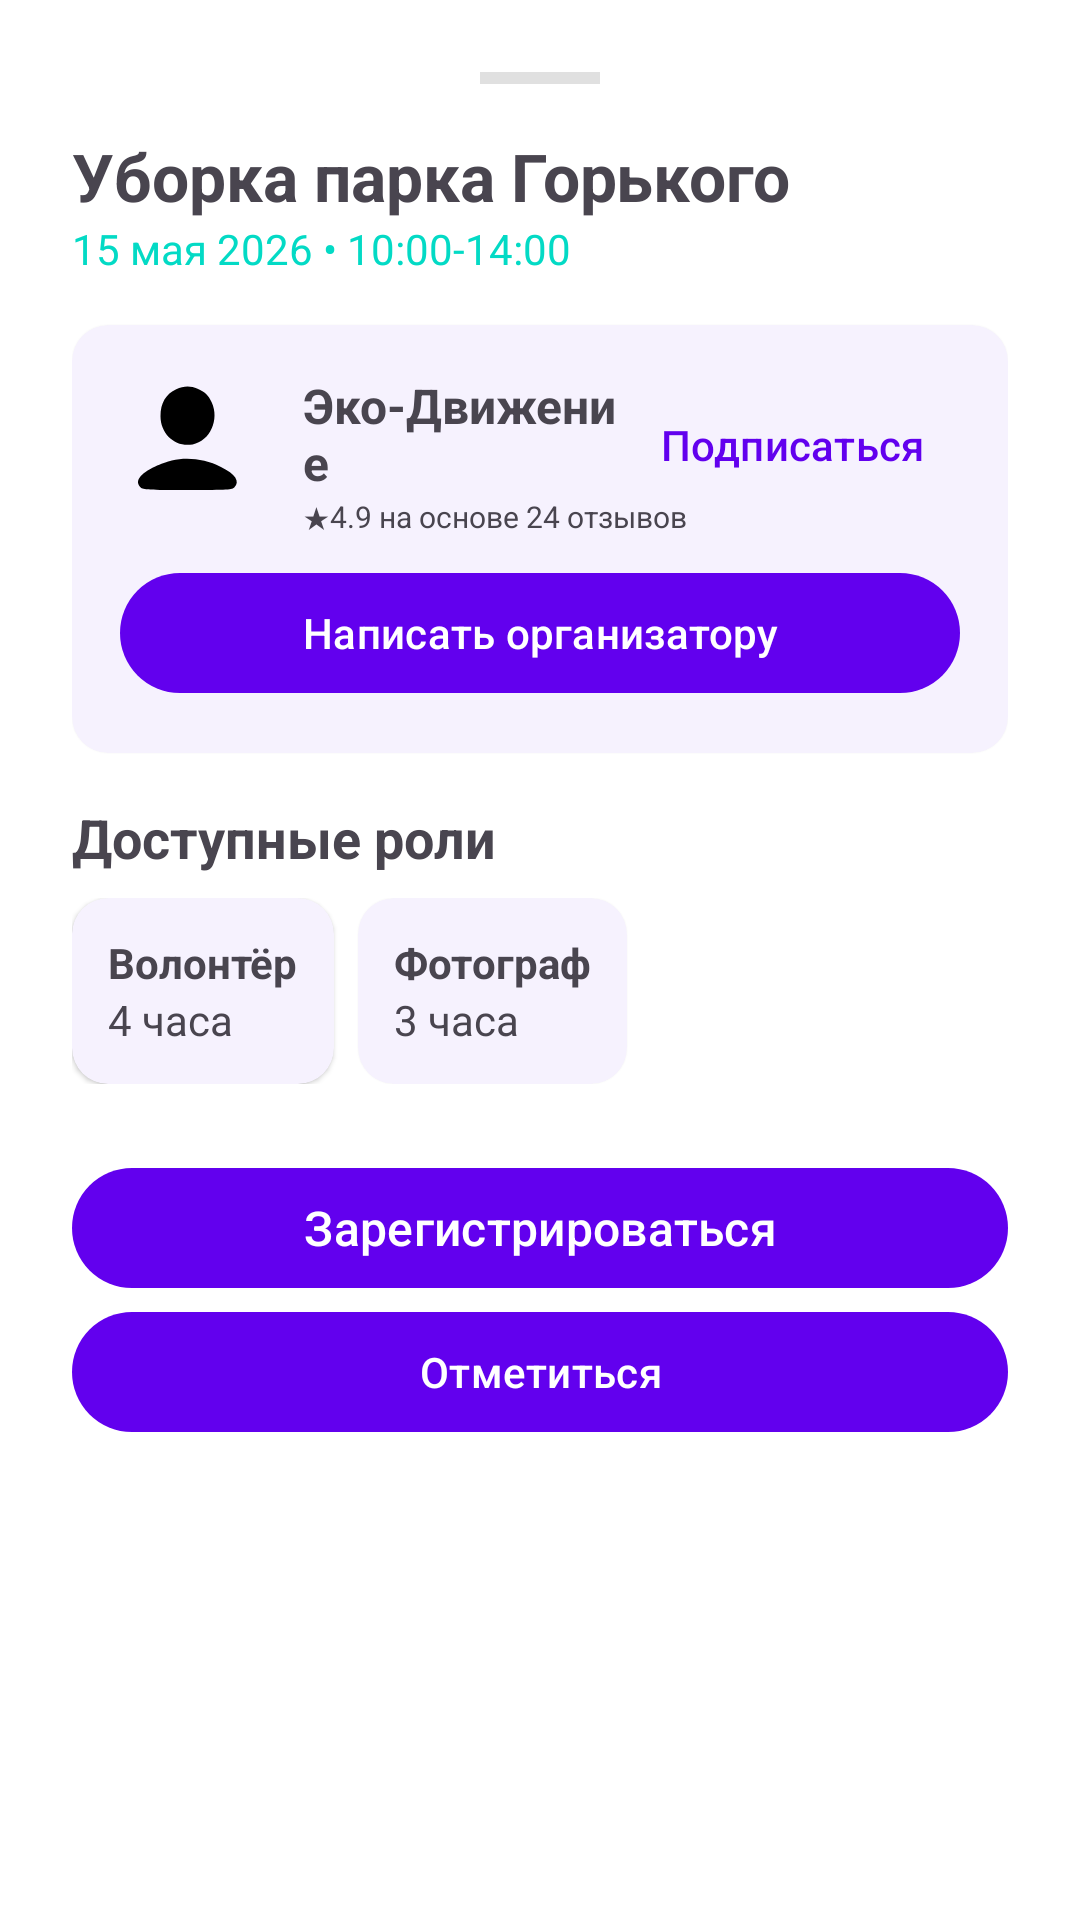

Icons on this 1080×1920 Android screen, each with the point to tap as point (x, y):
profile: point (187, 438)
